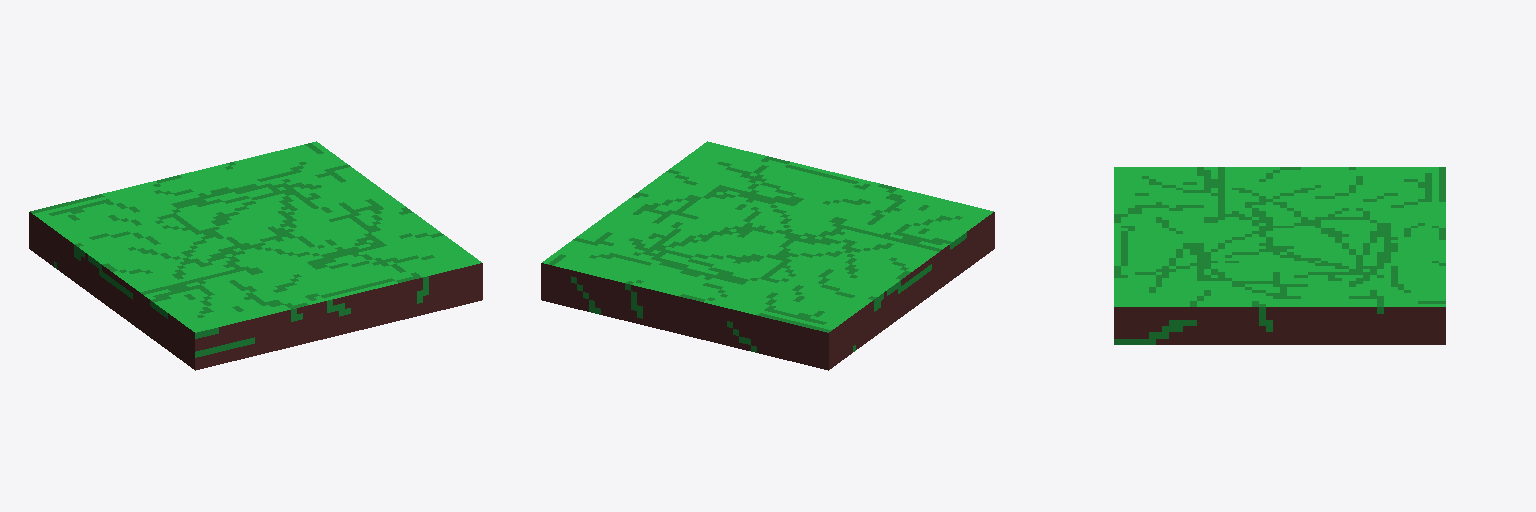
The picture shows the model from 3 angles: view 1: azimuth 30°, elevation 25°; view 2: azimuth 150°, elevation 25°; view 3: azimuth 270°, elevation 25°; orthographic projection.
Visible parts, largest first — view 1: cube; view 2: cube; view 3: cube.
Boxes of the visible parts, x1=… form: cube: x1=29, y1=141, x2=482, y2=370; cube: x1=541, y1=141, x2=994, y2=370; cube: x1=1114, y1=167, x2=1445, y2=344.
Size of the model in its own units: 3 by 0.375 by 3.
1 materials, 1 textured.